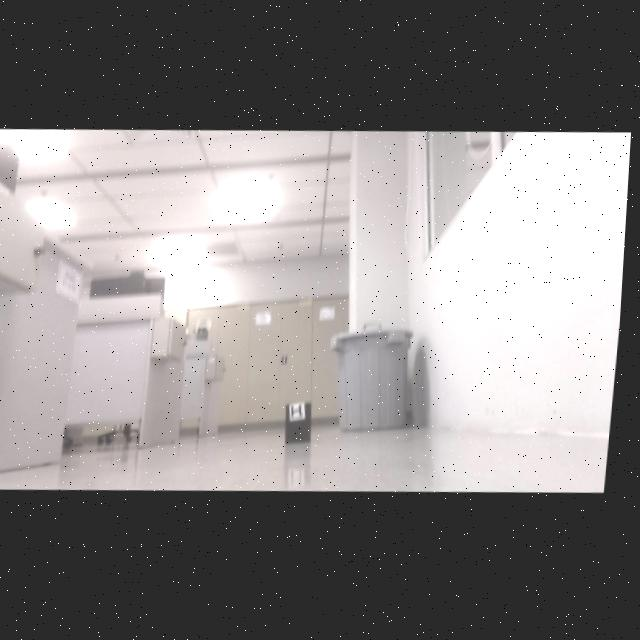H: (297, 407, 307, 421)
